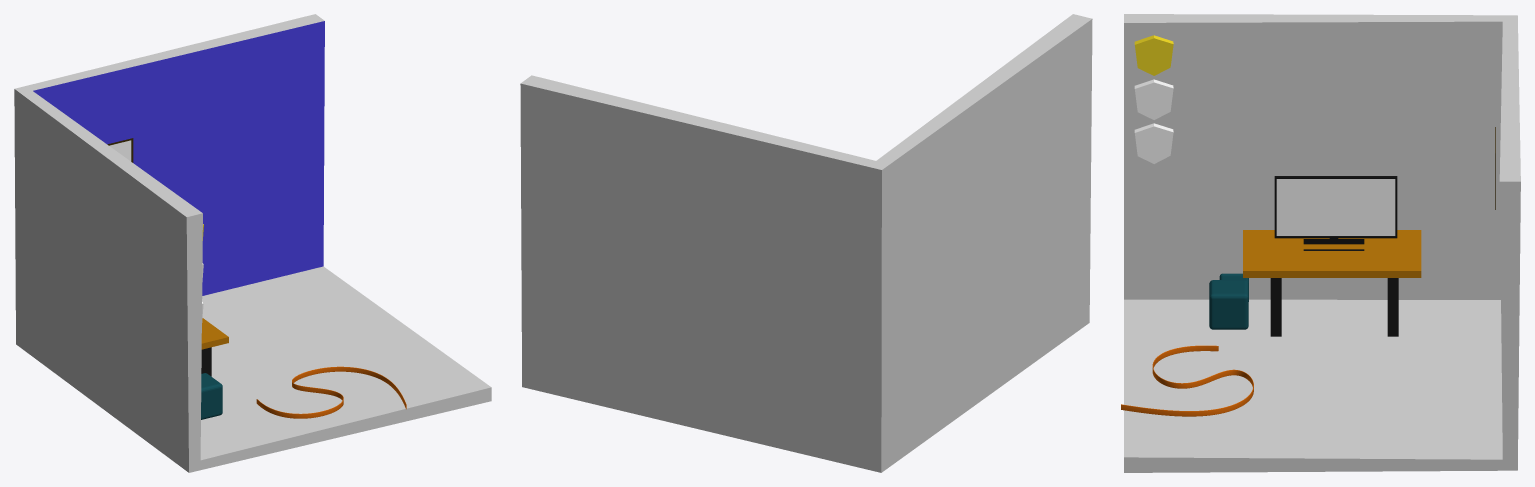
The model's file is room developer.gltf.
3 renders of one model, left to right at view 1: azimuth 30°, elevation 25°; view 2: azimuth 150°, elevation 25°; view 3: azimuth 270°, elevation 25°, orthographic. The views are drawn at different scales.
Visible parts, largest first — view 1: Cube, cinturon, Roundcube, Cube.005; view 2: Cube; view 3: Cube, Cube.006, Cube.005, Roundcube, cinturon, escudo.003, escudo.001, escudo.002, Cube.004, Cube.002.
Boxes of the visible parts, box(x1,y1,x2,y2) form: Cube: box(14, 14, 491, 472); cinturon: box(256, 366, 406, 418); Roundcube: box(201, 373, 222, 419); Cube.005: box(201, 318, 228, 349); Cube: box(520, 14, 1092, 472); Cube: box(1124, 14, 1520, 472); Cube.006: box(1274, 176, 1397, 250); Cube.005: box(1243, 230, 1421, 277); Roundcube: box(1209, 280, 1248, 329); cinturon: box(1121, 345, 1253, 416); escudo.003: box(1134, 35, 1173, 75); escudo.001: box(1134, 123, 1173, 163); escudo.002: box(1134, 79, 1173, 119); Cube.004: box(1387, 278, 1398, 336); Cube.002: box(1270, 278, 1281, 336).
Size of the model in its own units: 20.18 by 16.33 by 20.32.
Materials: 13 (3 with a texture image).
